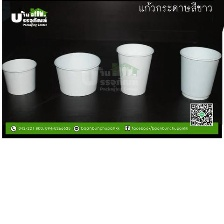paper_cup: (173, 42, 224, 103), (111, 39, 158, 98), (49, 48, 104, 98), (0, 54, 39, 98)
